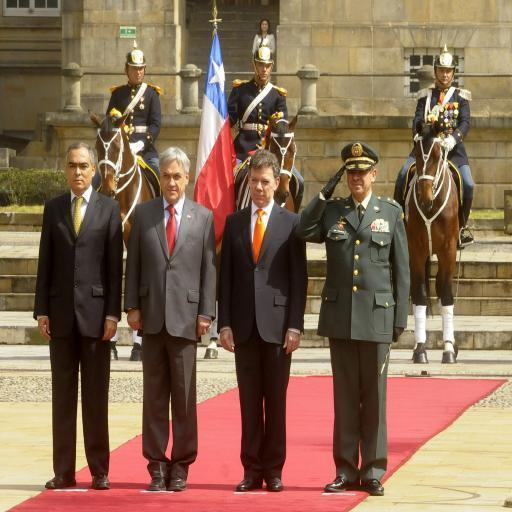horse: (202, 112, 300, 359), (86, 108, 154, 362), (400, 120, 460, 363)
